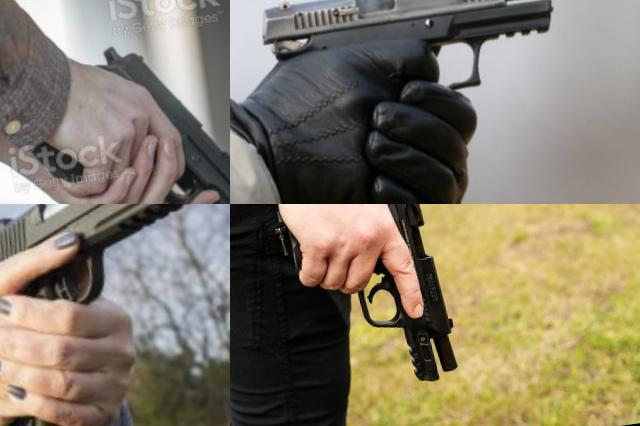handgun: (0, 204, 230, 426), (261, 204, 464, 403), (12, 20, 230, 204), (252, 0, 568, 119)
